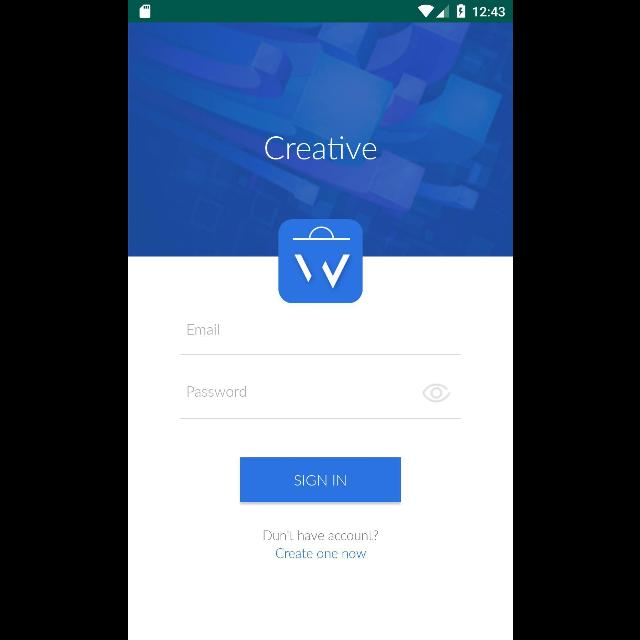icon: (422, 383, 450, 402)
image: (128, 22, 510, 256), (278, 219, 362, 303)
input: (180, 384, 460, 420), (180, 324, 460, 356)
text: (264, 136, 376, 160), (263, 530, 377, 540), (275, 548, 365, 558), (187, 386, 246, 396), (186, 324, 218, 336)
textbutton: (240, 458, 400, 502)
uppertaskbar: (128, 0, 512, 22)
